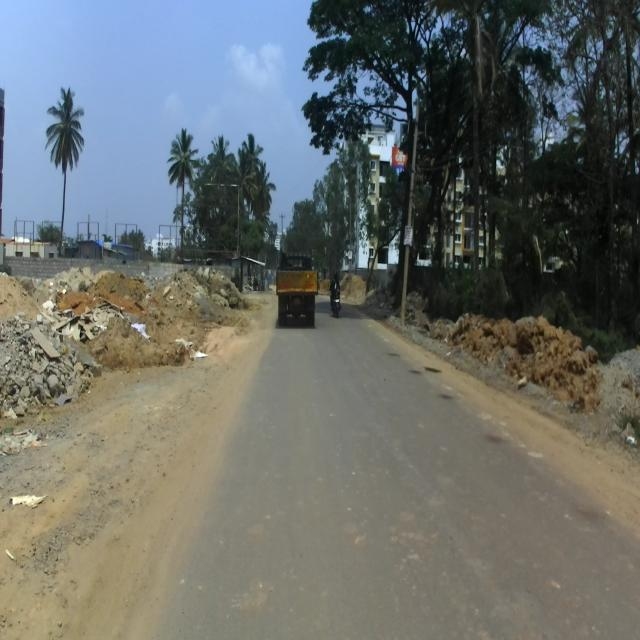truck ahead at: (274, 246, 322, 330)
